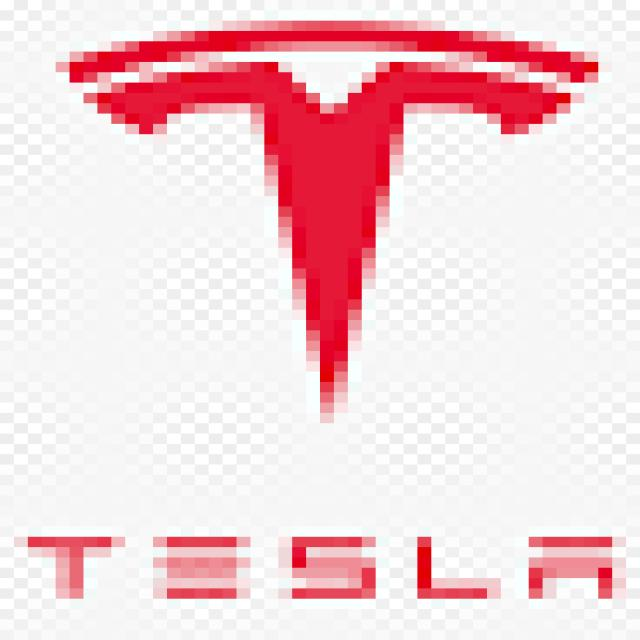tesla: (60, 0, 613, 421)
